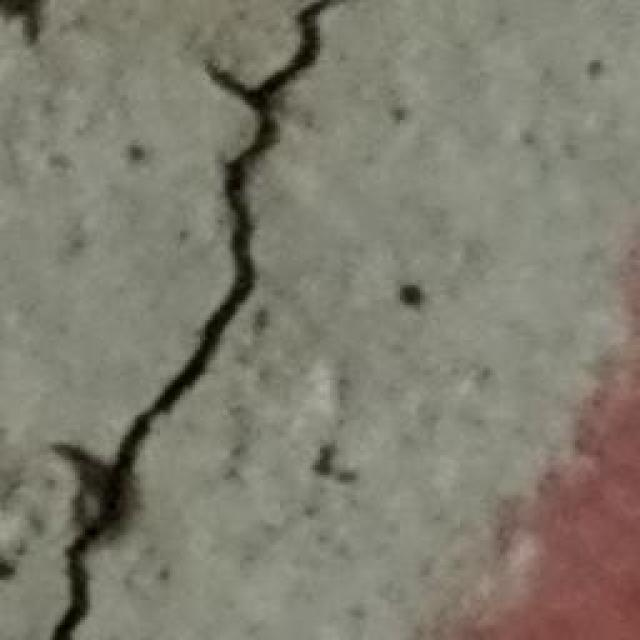Network: (50, 14, 382, 640)
